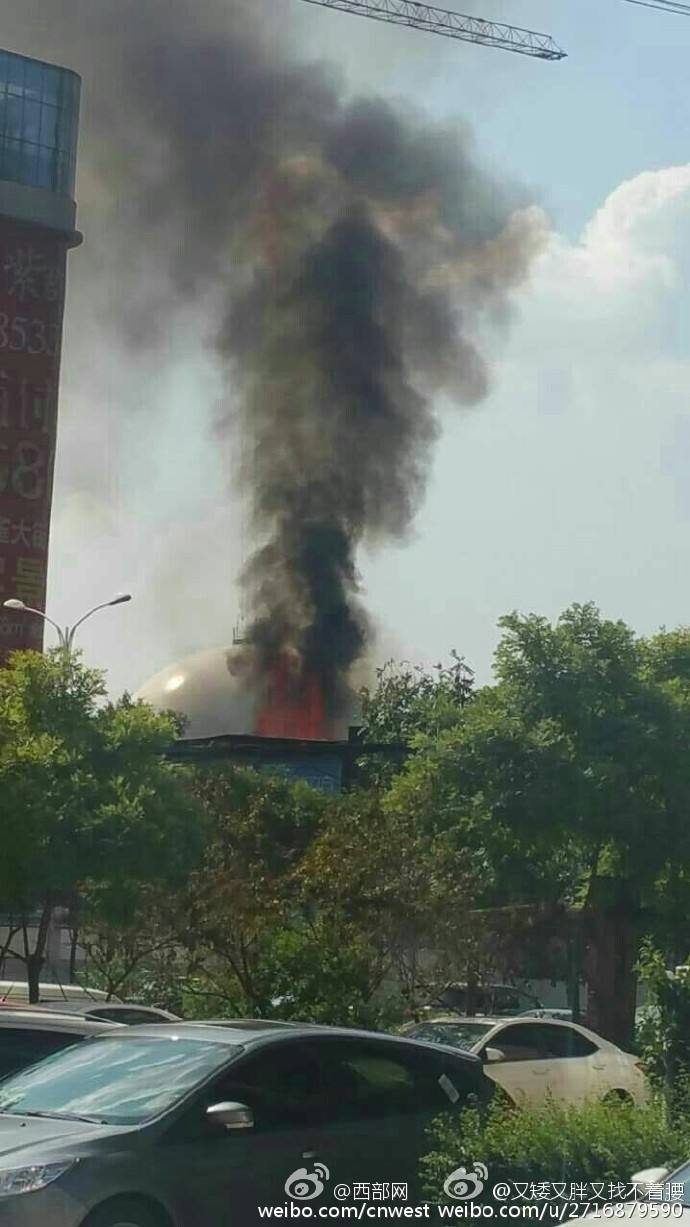fire: (256, 683, 339, 739)
